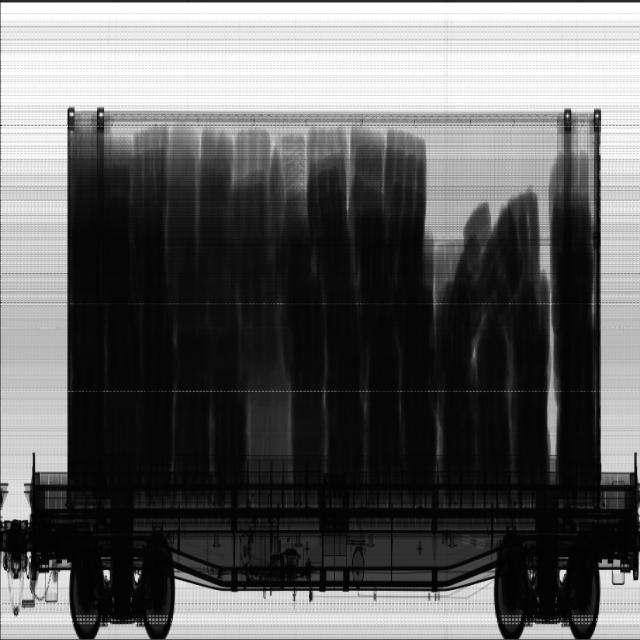clothes: (68, 128, 595, 476)
